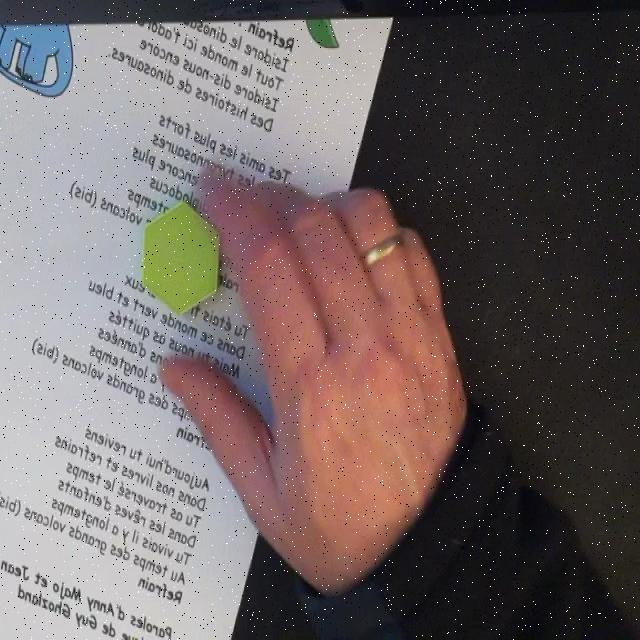hexagon: (140, 200, 223, 314)
